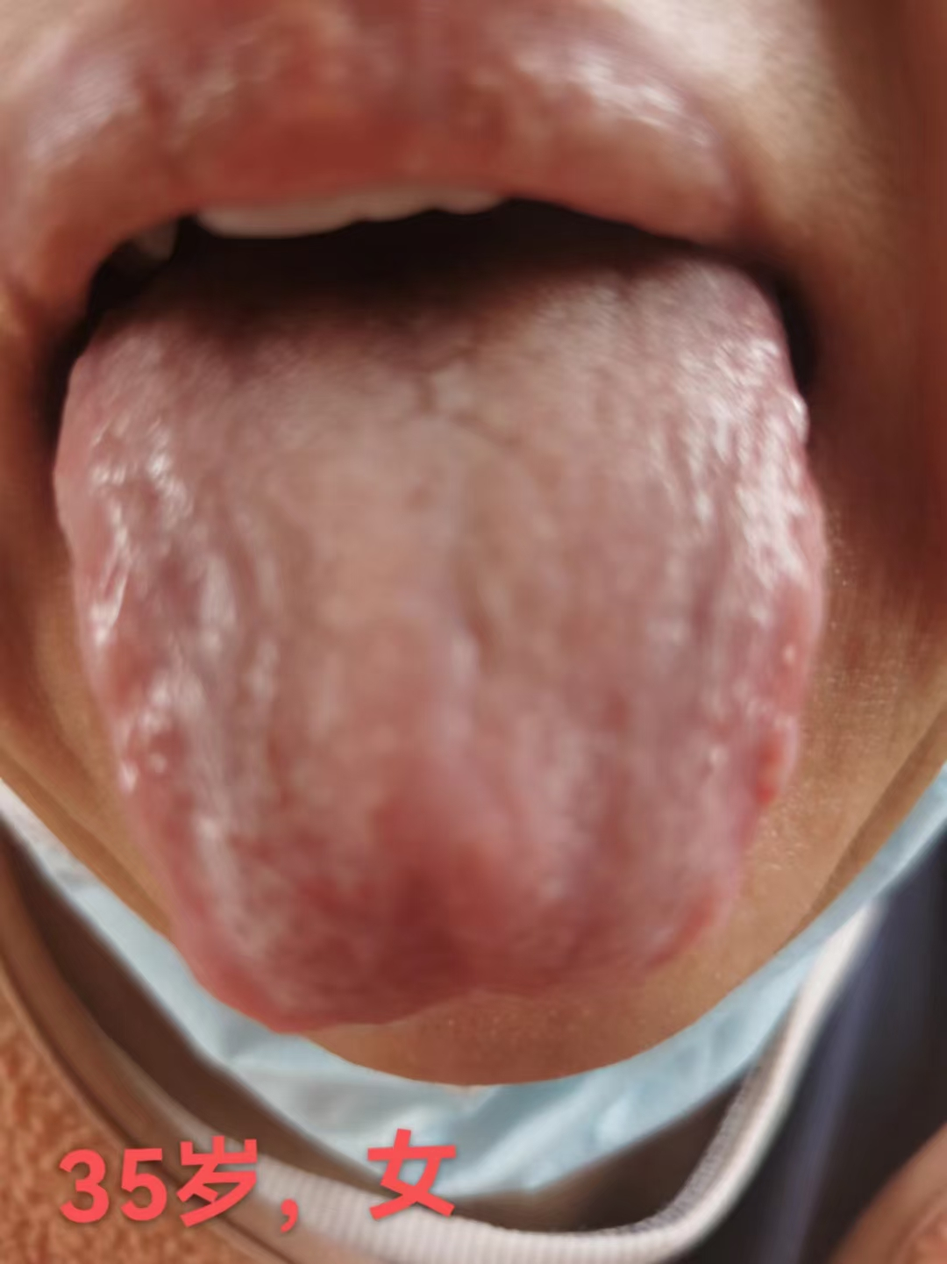baitaishe: (51, 256, 830, 1035)
liewenshe: (380, 309, 527, 457)
